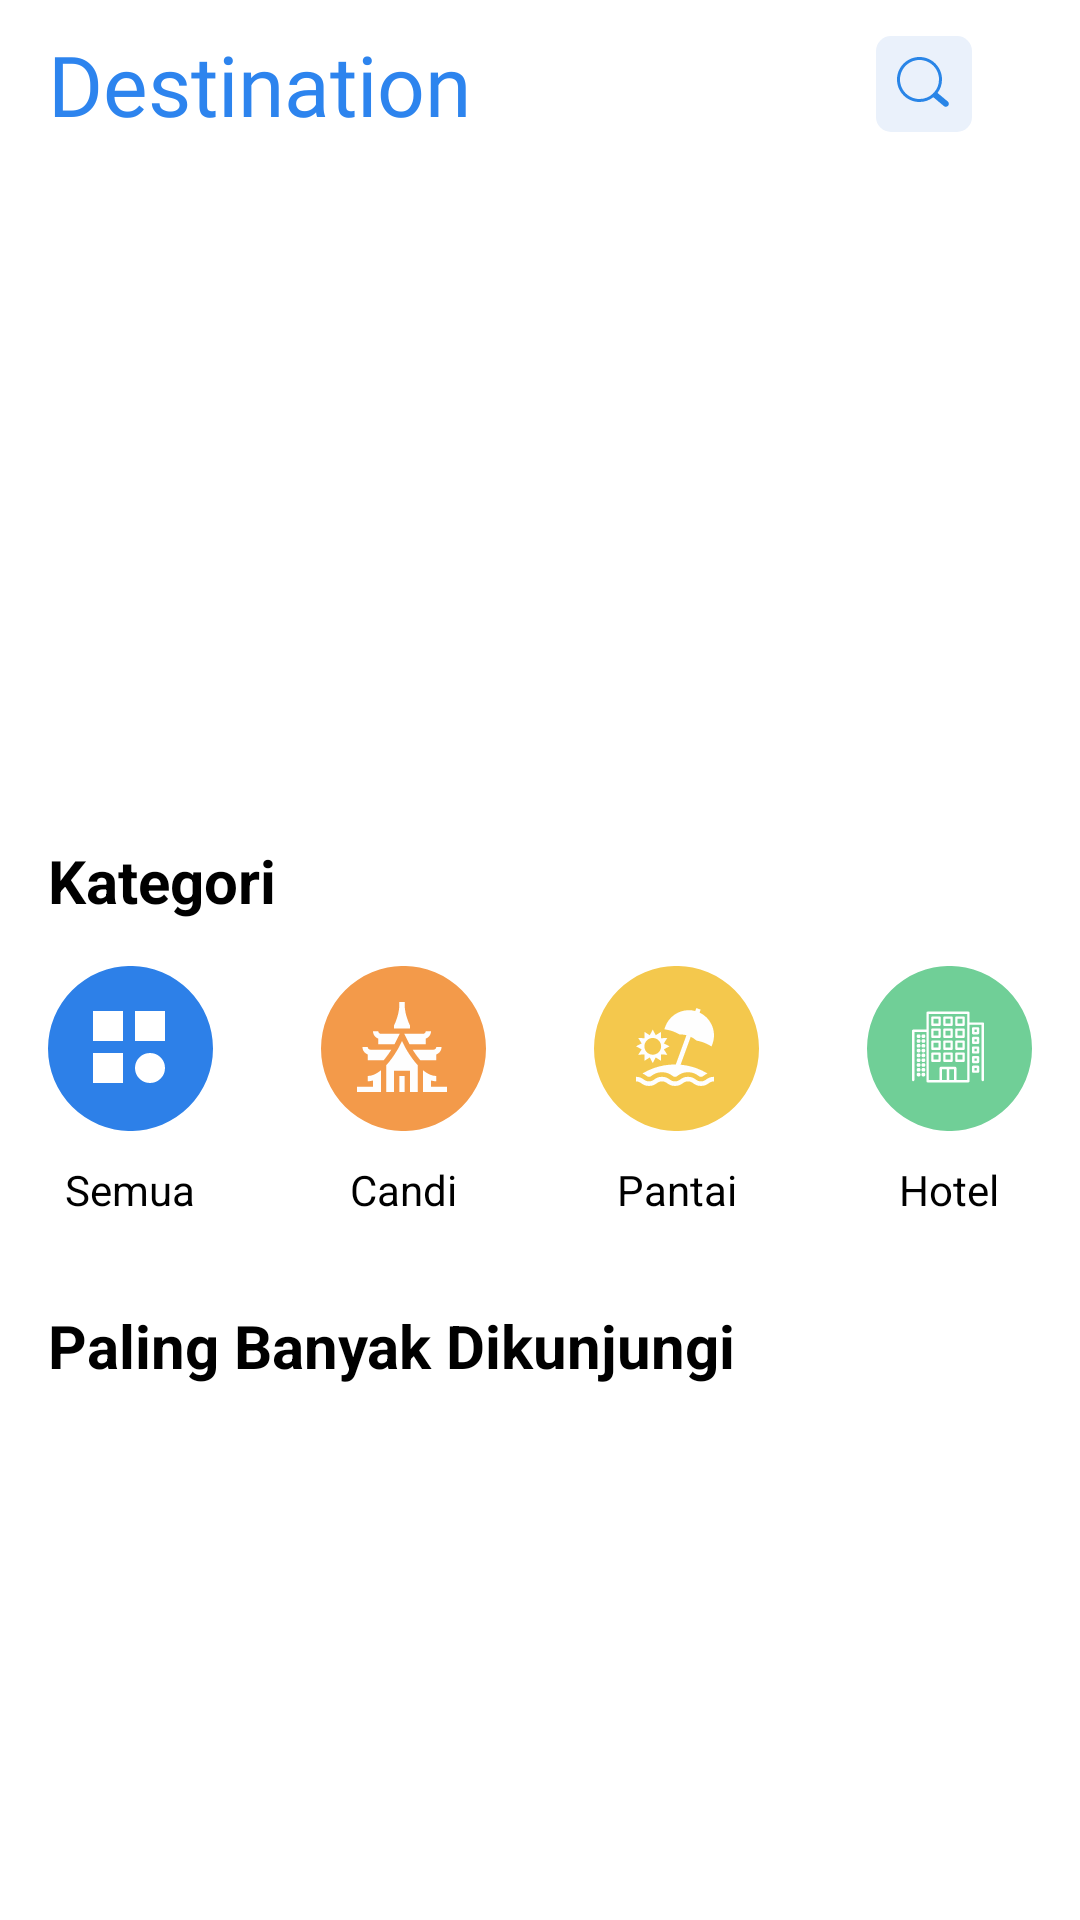

Screen size 1080px x 1920px. Icon name, then its center in pixels as (x=x, y=y):
search: (x=924, y=84)
